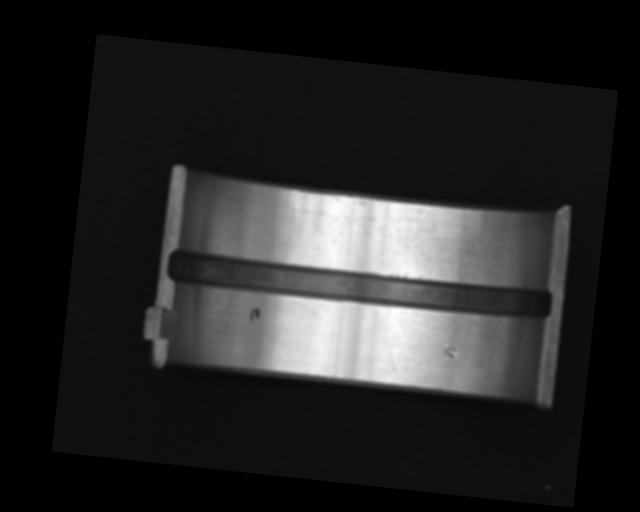blot: (248, 305, 261, 324)
bruise: (440, 343, 458, 362)
gap: (166, 248, 553, 326)
